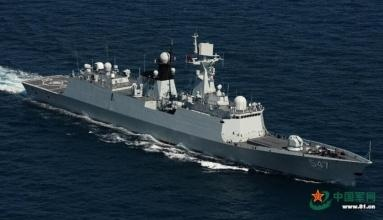warship: (25, 38, 375, 181)
